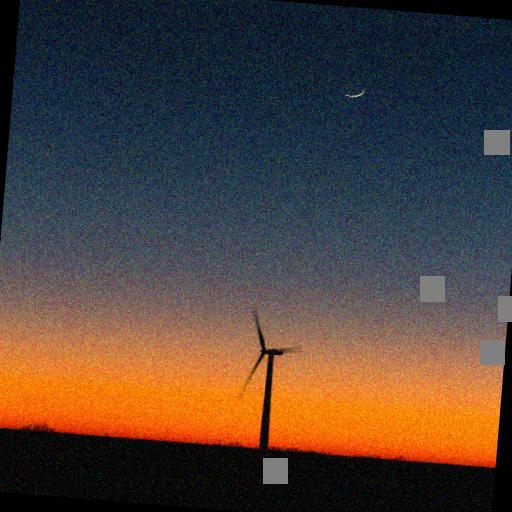wind turbine: (236, 305, 303, 451)
